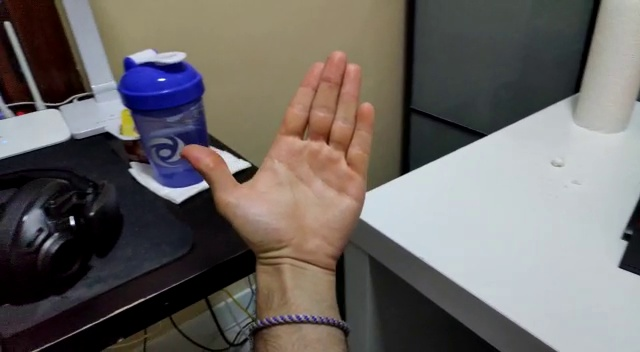Palm: (182, 44, 377, 280)
